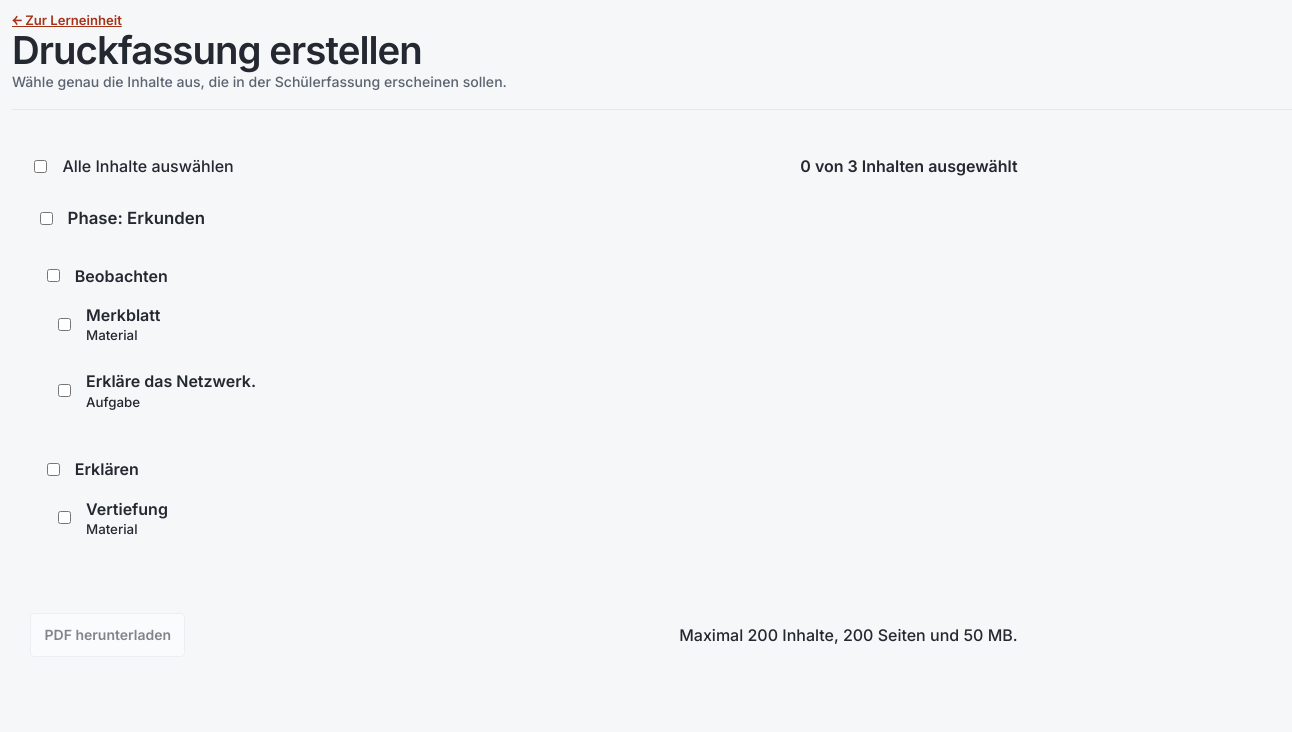
Test case: teacher printable-unit page › selects every module in a modular phase through the phase checkbox
The width and height of the screenshot is (1292, 732).
Click the checkbox named "Phase Erkunden vollständig auswählen": (46, 218) [40,212,53,225]
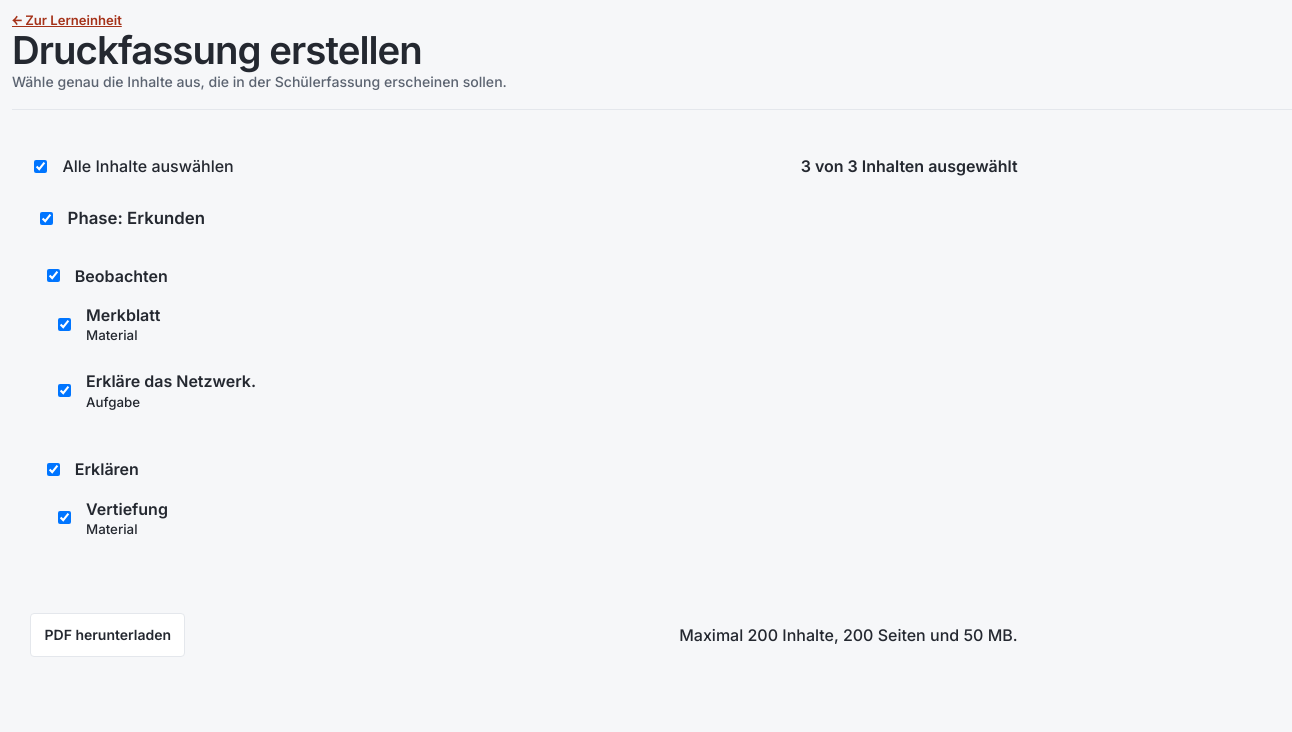
Expected: the checkbox labelled "Merkblatt" is checked, [58,318,71,331]
Expected: the checkbox named "Aufgabe: Erkläre das Netzwerk." is checked, [58,384,71,397]
Expected: the checkbox labelled "Vertiefung" is checked, [58,511,71,524]
